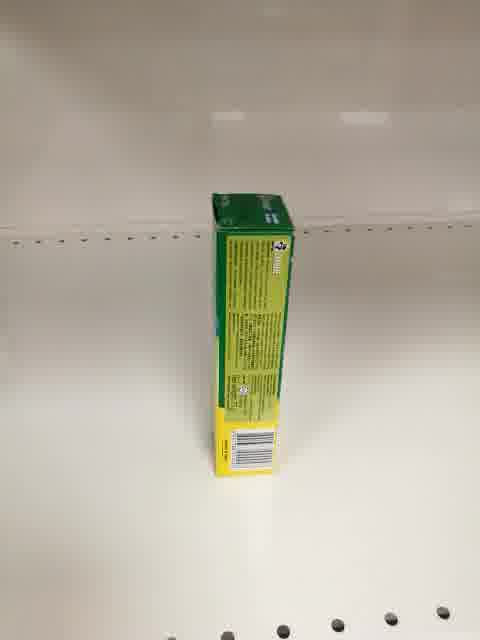toothpaste: (211, 191, 295, 480)
